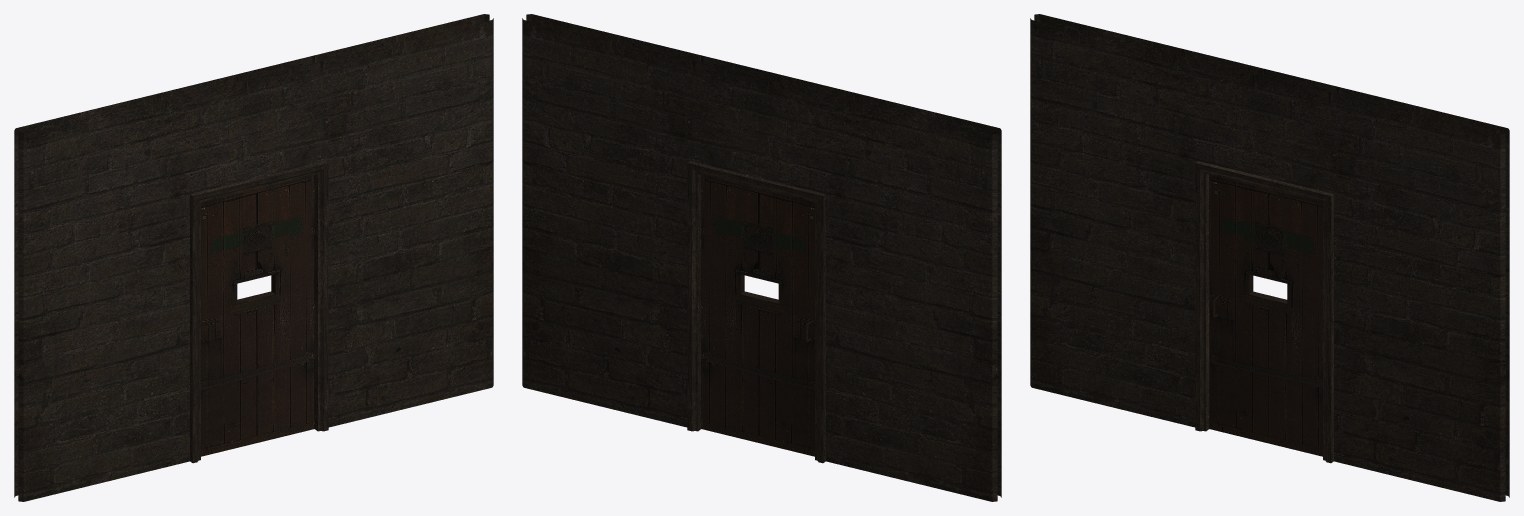
Rendered from doorway_1_plain.glb.
3 views of the same model, side by side, from view 1: azimuth 30°, elevation 25°; view 2: azimuth 150°, elevation 25°; view 3: azimuth 330°, elevation 25° (orthographic).
Parts seen in each view (by area): view 1: doorway_1_plain, door_mp_6; view 2: doorway_1_plain, door_mp_6; view 3: doorway_1_plain, door_mp_6.
Boxes of the visible parts, x1=… form: doorway_1_plain: x1=14, y1=14, x2=493, y2=501; door_mp_6: x1=201, y1=175, x2=314, y2=456; doorway_1_plain: x1=522, y1=14, x2=1001, y2=501; door_mp_6: x1=701, y1=175, x2=814, y2=456; doorway_1_plain: x1=1030, y1=14, x2=1509, y2=501; door_mp_6: x1=1209, y1=175, x2=1322, y2=456.
Size of the model in its own units: 4.06 by 3 by 0.2.
Materials: 3 (3 with a texture image).
